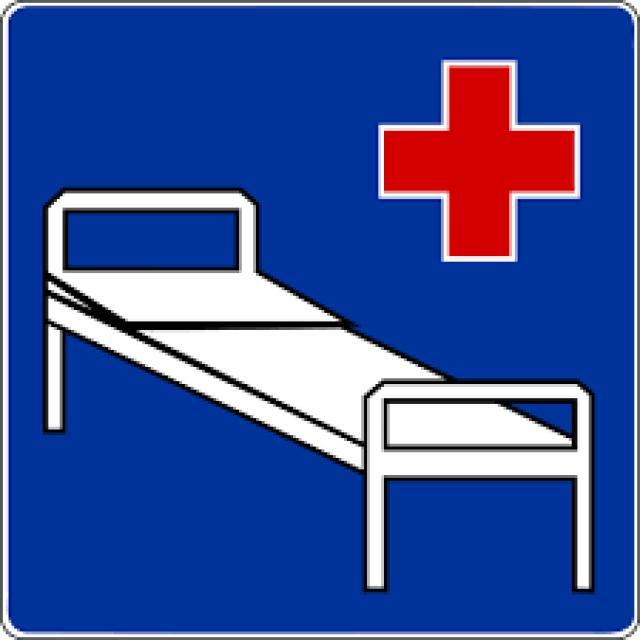hospital ahead: (29, 24, 617, 614)
